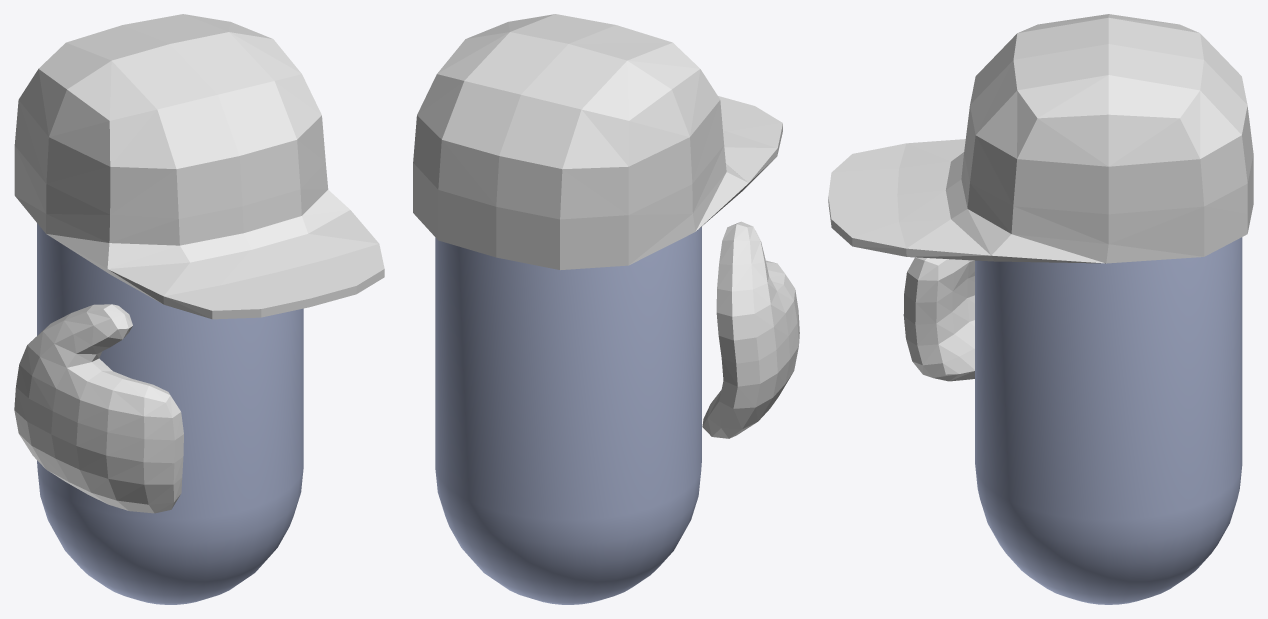
Rendered from pitcher.fbx.
3 views of the same model, side by side, from view 1: azimuth 30°, elevation 25°; view 2: azimuth 150°, elevation 25°; view 3: azimuth 270°, elevation 25° (orthographic).
Visible parts, largest first — view 1: Cube.003, Sphere, Cube; view 2: Sphere, Cube.003, Cube; view 3: Sphere, Cube.003, Cube.
Part boxes in pixels (left/top/right/bottom): Cube.003: left=14, top=14, right=384, bottom=319; Sphere: left=37, top=223, right=303, bottom=604; Cube: left=14, top=304, right=183, bottom=513; Sphere: left=435, top=226, right=701, bottom=604; Cube.003: left=413, top=14, right=782, bottom=270; Cube: left=702, top=221, right=799, bottom=438; Sphere: left=975, top=237, right=1242, bottom=604; Cube.003: left=828, top=14, right=1253, bottom=263; Cube: left=903, top=257, right=974, bottom=381.
Bounding box in the file's own units: 111 × 193 × 136.
